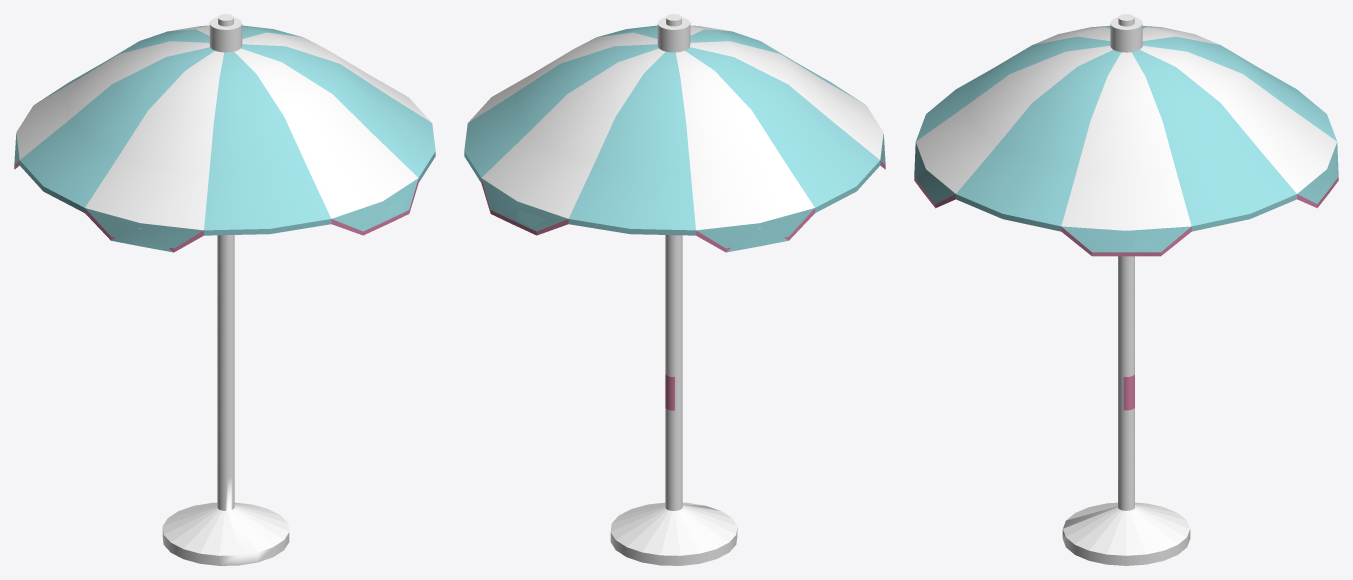
File: parasol.fbx
3 renders of one model, left to right at view 1: azimuth 30°, elevation 25°; view 2: azimuth 150°, elevation 25°; view 3: azimuth 270°, elevation 25°, orthographic.
Visible parts, largest first — view 1: pCylinder1; view 2: pCylinder1; view 3: pCylinder1.
Boxes of the visible parts, <box> form: pCylinder1: <box>14,14,435,565</box>; pCylinder1: <box>464,14,885,565</box>; pCylinder1: <box>914,14,1338,565</box>.
Size of the model in its own units: 133 by 180 by 133.
